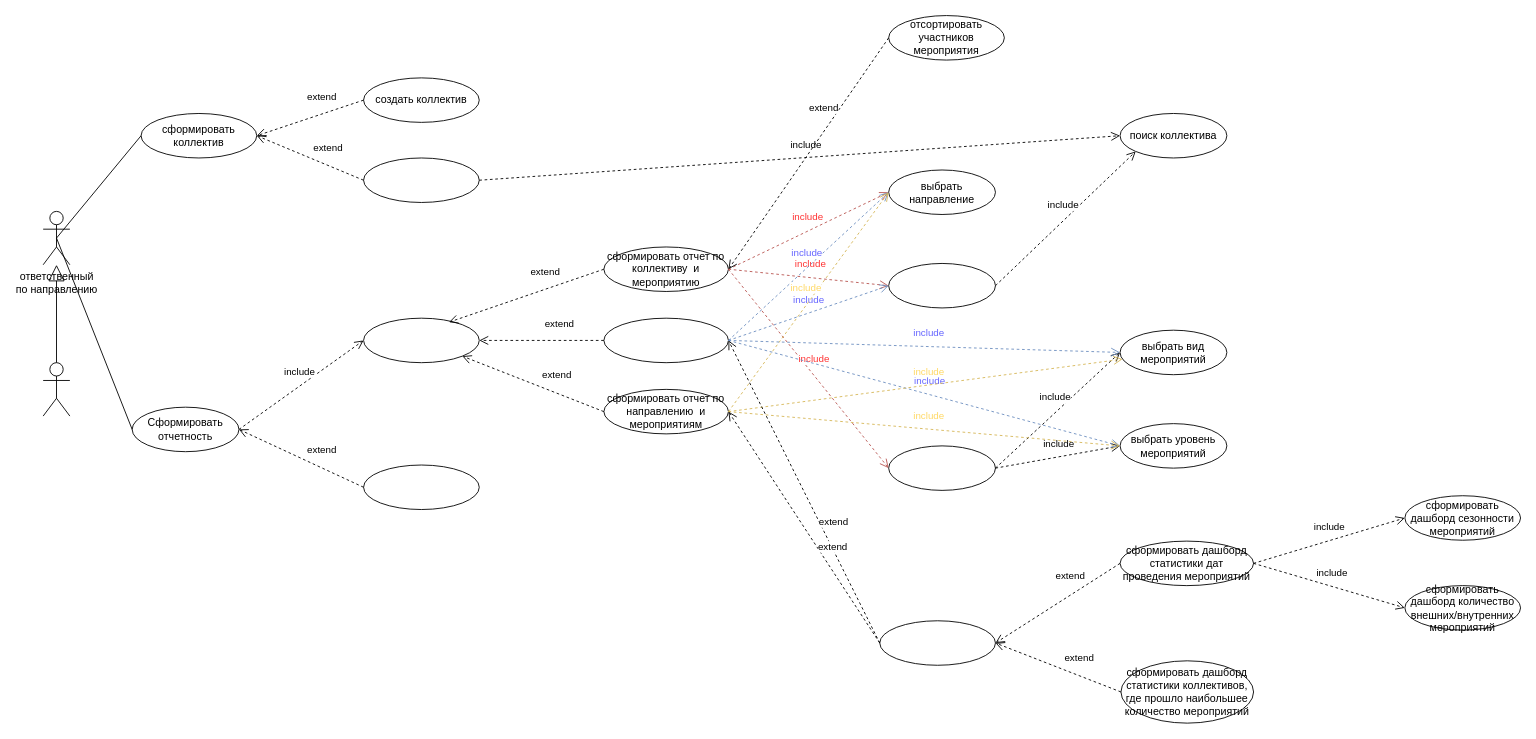
Some shapes in this 1536 by 739 pixel diagram are drawn without their labels. The shapes that lost their labels are listed below. From the top down, each one's box as (x1, y1, x2, y2) in pixels, then its label:
(363, 157, 479, 202): редактировать коллектив
(888, 263, 995, 308): выбрать коллектив
(363, 317, 479, 363): выбрать вид отчета
(603, 317, 728, 363): сформировать отчет по коллективу и мероприятиям
(42, 362, 70, 416): ответственный за ИРНИТУ
(363, 464, 479, 510): скачать отчетность
(888, 445, 995, 490): поиск мероприятия
(879, 620, 995, 665): сформировать дашборды
